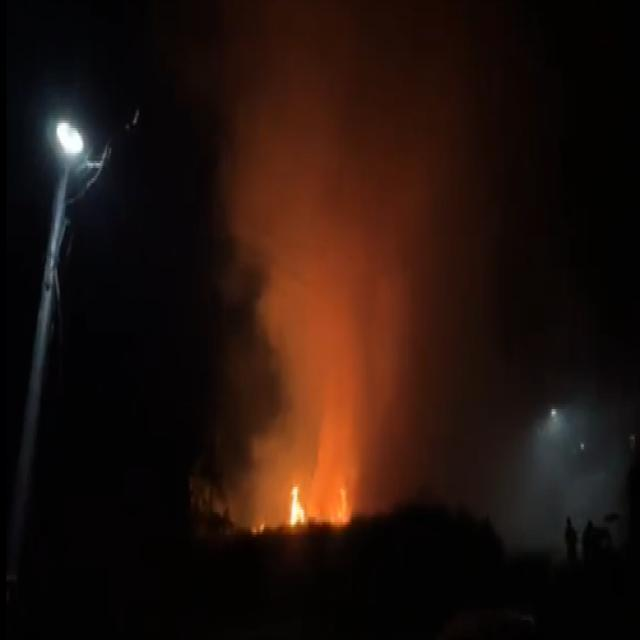Fire: (274, 490, 343, 540)
Smoke: (225, 29, 414, 504)
